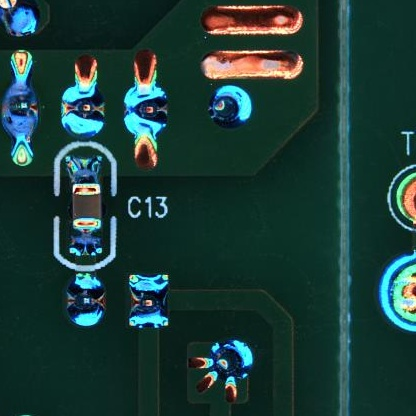spot: (191, 337, 254, 399), (62, 272, 109, 330), (126, 273, 171, 330), (122, 84, 170, 137), (61, 86, 107, 138), (208, 84, 254, 130), (3, 84, 43, 136)
